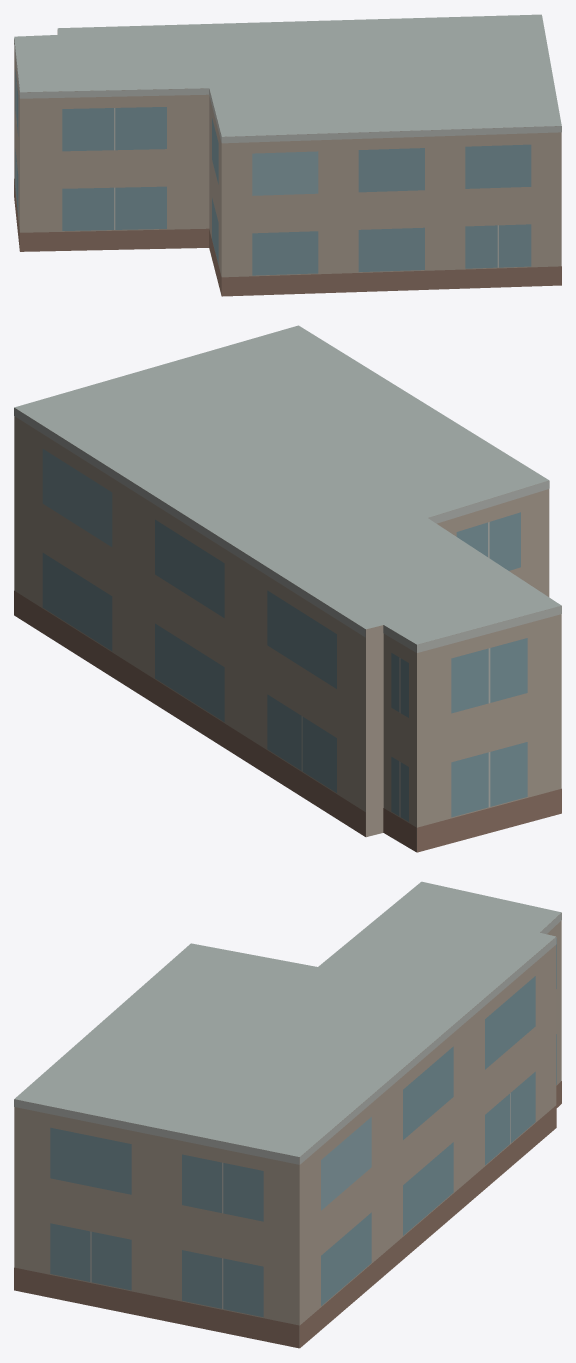
File: survey-upis-32888533.glb
The picture shows the model from 3 angles, top to bottom: view 1: azimuth 30°, elevation 25°; view 2: azimuth 150°, elevation 25°; view 3: azimuth 270°, elevation 25°; orthographic projection. The views are drawn at different scales.
Visible parts, largest first — view 1: survey-upis-32888533.tmp; view 2: survey-upis-32888533.tmp; view 3: survey-upis-32888533.tmp.
Part boxes in pixels (bbox=[...]): survey-upis-32888533.tmp: bbox=[14, 14, 561, 296]; survey-upis-32888533.tmp: bbox=[14, 325, 561, 852]; survey-upis-32888533.tmp: bbox=[14, 881, 561, 1348].
Size of the model in its own units: 18.55 by 6 by 15.58.
